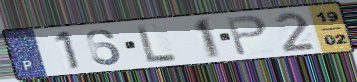1: (193, 17, 226, 61), (54, 29, 83, 72)
2: (272, 10, 318, 54)
6: (85, 28, 124, 67)
L: (133, 23, 179, 65)
P: (224, 13, 270, 57)
